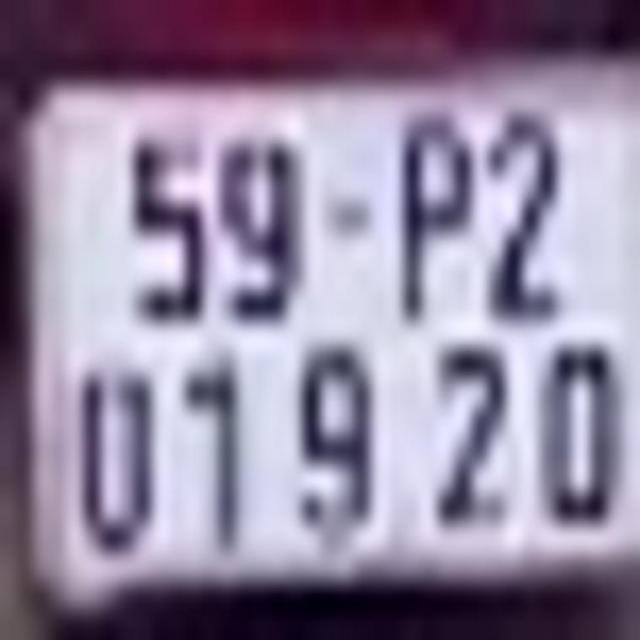0: (76, 354, 160, 557), (542, 338, 621, 529)
1: (178, 348, 249, 544)
2: (479, 92, 565, 324), (423, 340, 518, 530)
5: (128, 128, 212, 332)
9: (287, 345, 373, 544), (223, 127, 299, 326)
P: (395, 107, 471, 320)
